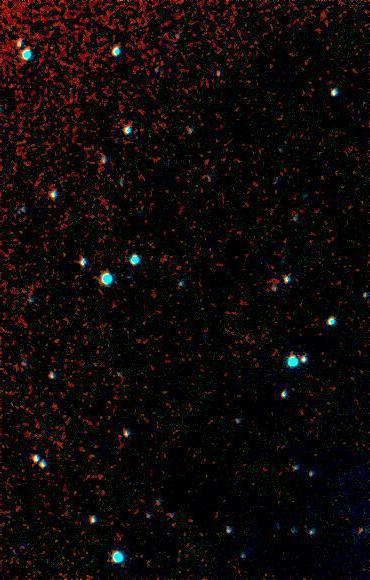star: (345, 515, 370, 545)
